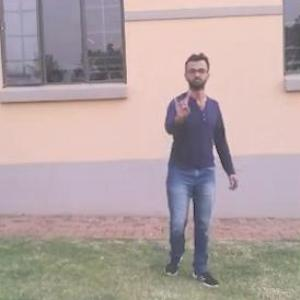takeoff-hand: (167, 82, 195, 123)
